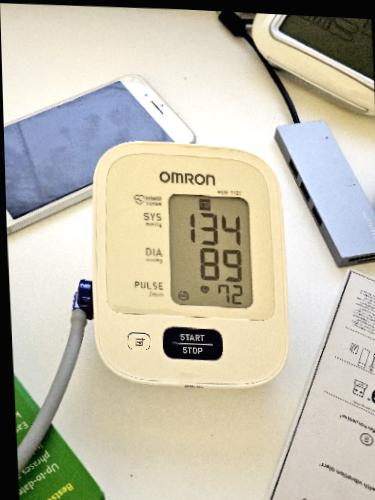bpm: (167, 192, 253, 311)
